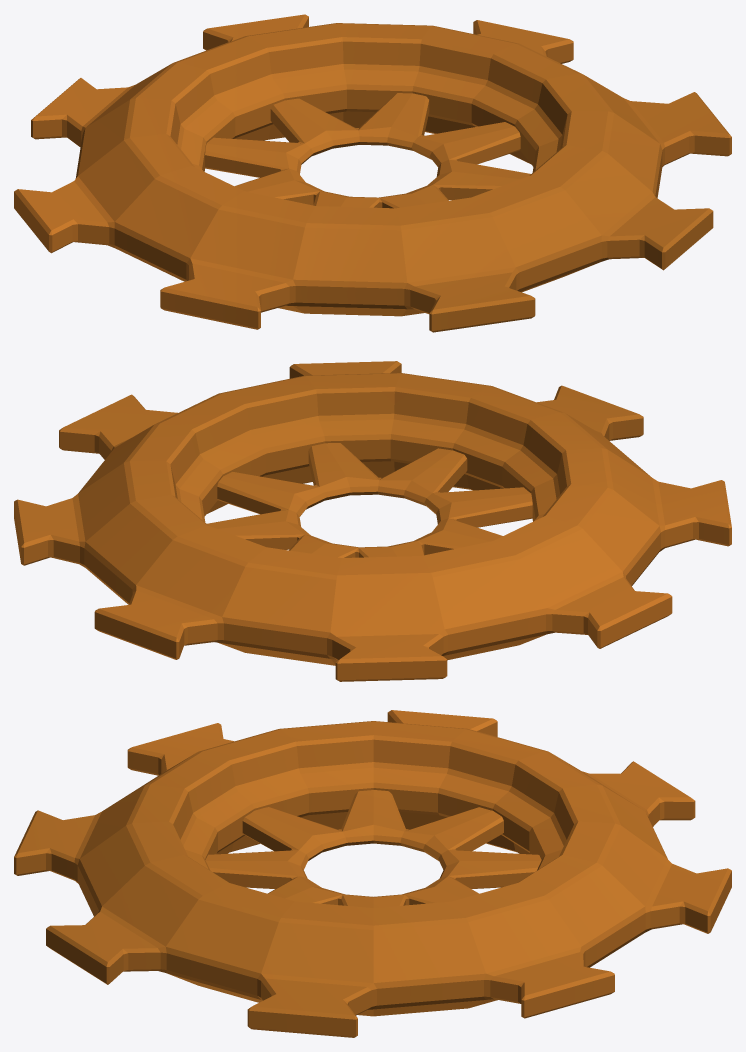
Rendered from EngrenagemInterna.fbx.
3 renders of one model, top to bottom at view 1: azimuth 30°, elevation 25°; view 2: azimuth 150°, elevation 25°; view 3: azimuth 270°, elevation 25°, orthographic.
Parts seen in each view (by area): view 1: EngrenagemInterna; view 2: EngrenagemInterna; view 3: EngrenagemInterna.
Part boxes in pixels (bbox=[...]): EngrenagemInterna: bbox=[14, 14, 731, 332]; EngrenagemInterna: bbox=[14, 361, 731, 681]; EngrenagemInterna: bbox=[14, 710, 731, 1037].
Size of the model in its own units: 332 by 46.37 by 327.
